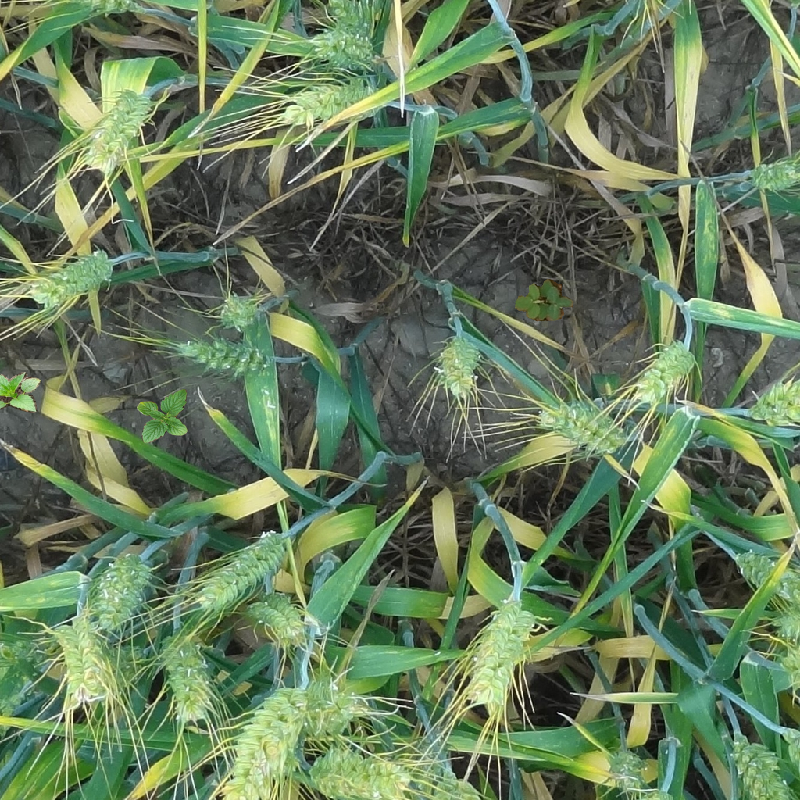spikelet: (218, 686, 309, 799), (195, 529, 291, 609), (465, 597, 534, 708), (85, 86, 151, 171), (87, 550, 152, 627), (56, 616, 114, 702), (29, 250, 113, 306), (538, 402, 625, 454), (281, 78, 377, 125), (633, 340, 697, 406), (729, 739, 794, 800), (163, 642, 212, 721), (308, 749, 379, 799), (178, 337, 268, 375), (246, 591, 307, 643), (435, 332, 480, 397), (309, 29, 377, 70), (309, 684, 366, 730), (750, 378, 800, 425), (604, 748, 649, 791), (734, 550, 782, 589), (364, 754, 412, 792), (751, 160, 799, 192), (219, 292, 260, 328), (774, 605, 800, 640)
weed: (512, 270, 580, 331), (137, 389, 188, 443), (1, 372, 41, 413)
